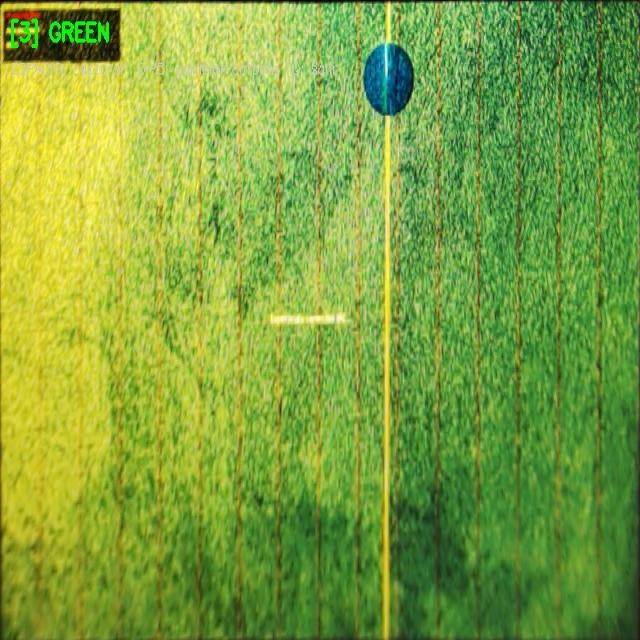green: (364, 37, 414, 119)
